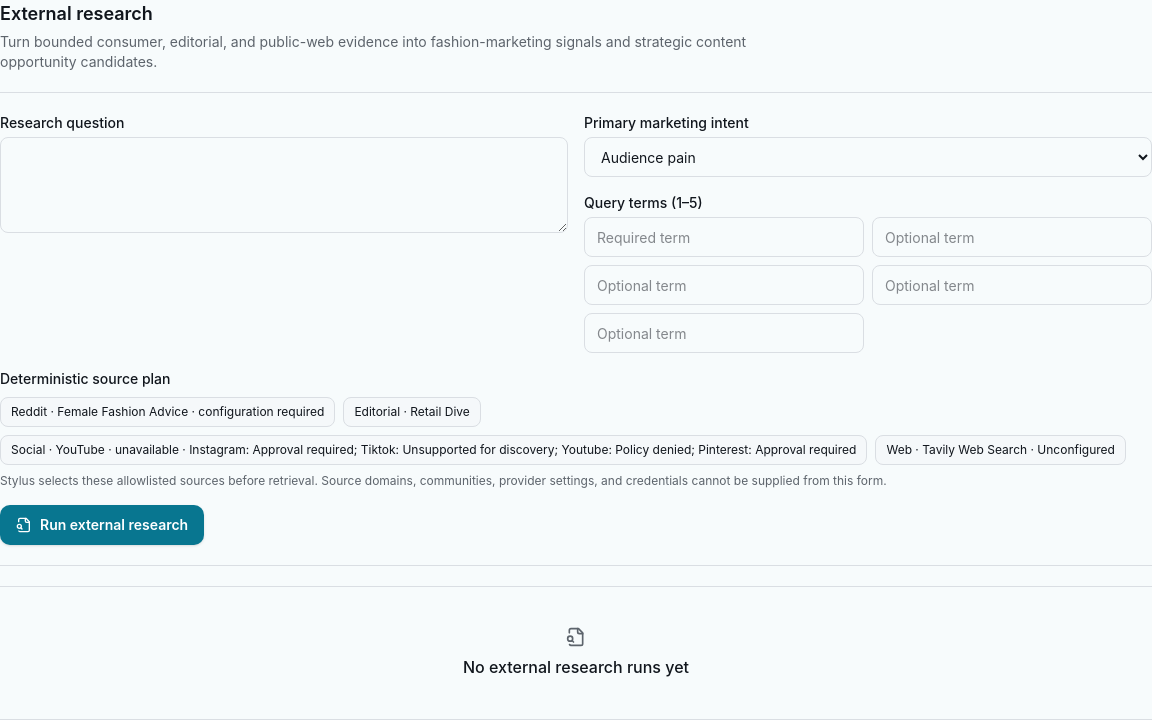
External Research workspace › shows the bounded HN stream only for fashion technology
Select "Fashion tech" in the dropdown labelled "Primary marketing intent" at {"x": 868, "y": 157}, box x1=584 y1=137 x2=1151 y2=177
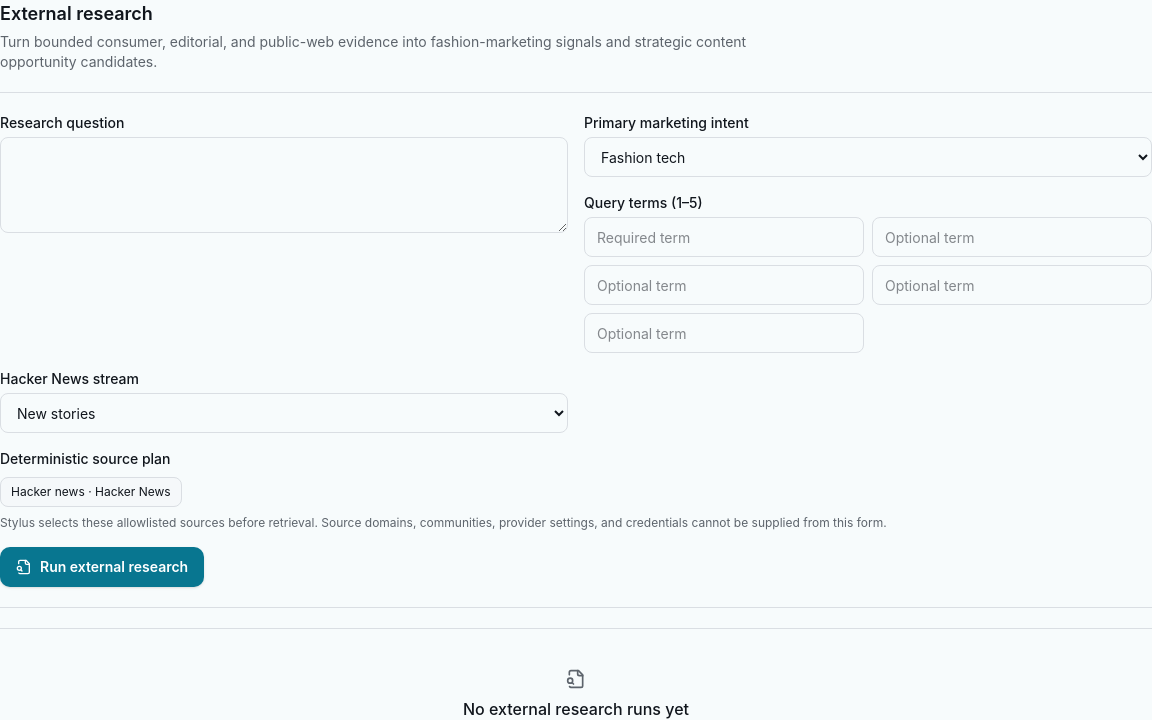
Check: the dropdown labelled "Hacker News stream" is shown, box x1=0 y1=393 x2=568 y2=433
Check: the text "Hacker News stream" is shown, box x1=0 y1=370 x2=139 y2=387
